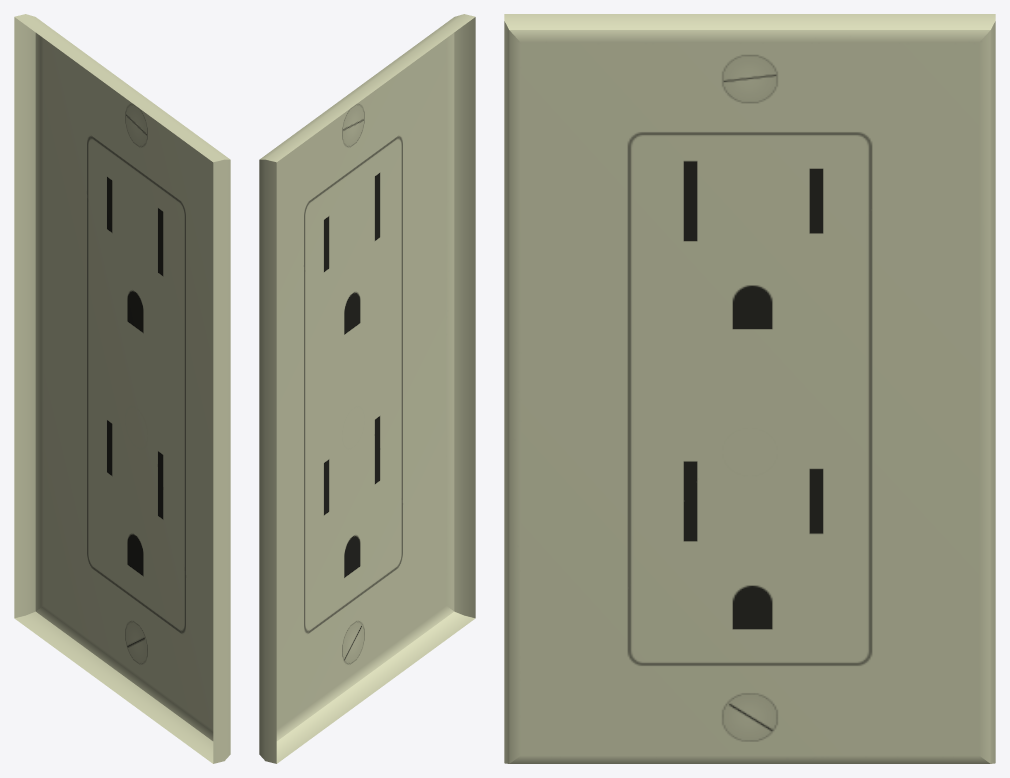
Rendered from Outlet.obj.
3 views of the same model, side by side, from view 1: azimuth 30°, elevation 25°; view 2: azimuth 150°, elevation 25°; view 3: azimuth 270°, elevation 25° (orthographic). The views are drawn at different scales.
Parts seen in each view (by area): view 1: pCube1; view 2: pCube1; view 3: pCube1.
Part boxes in pixels (box(x1,y1,x2,y2)): pCube1: box(14, 14, 230, 763); pCube1: box(259, 14, 475, 763); pCube1: box(504, 14, 995, 763).
Bounding box in the file's own units: 0.0397 × 1 × 0.5993.
